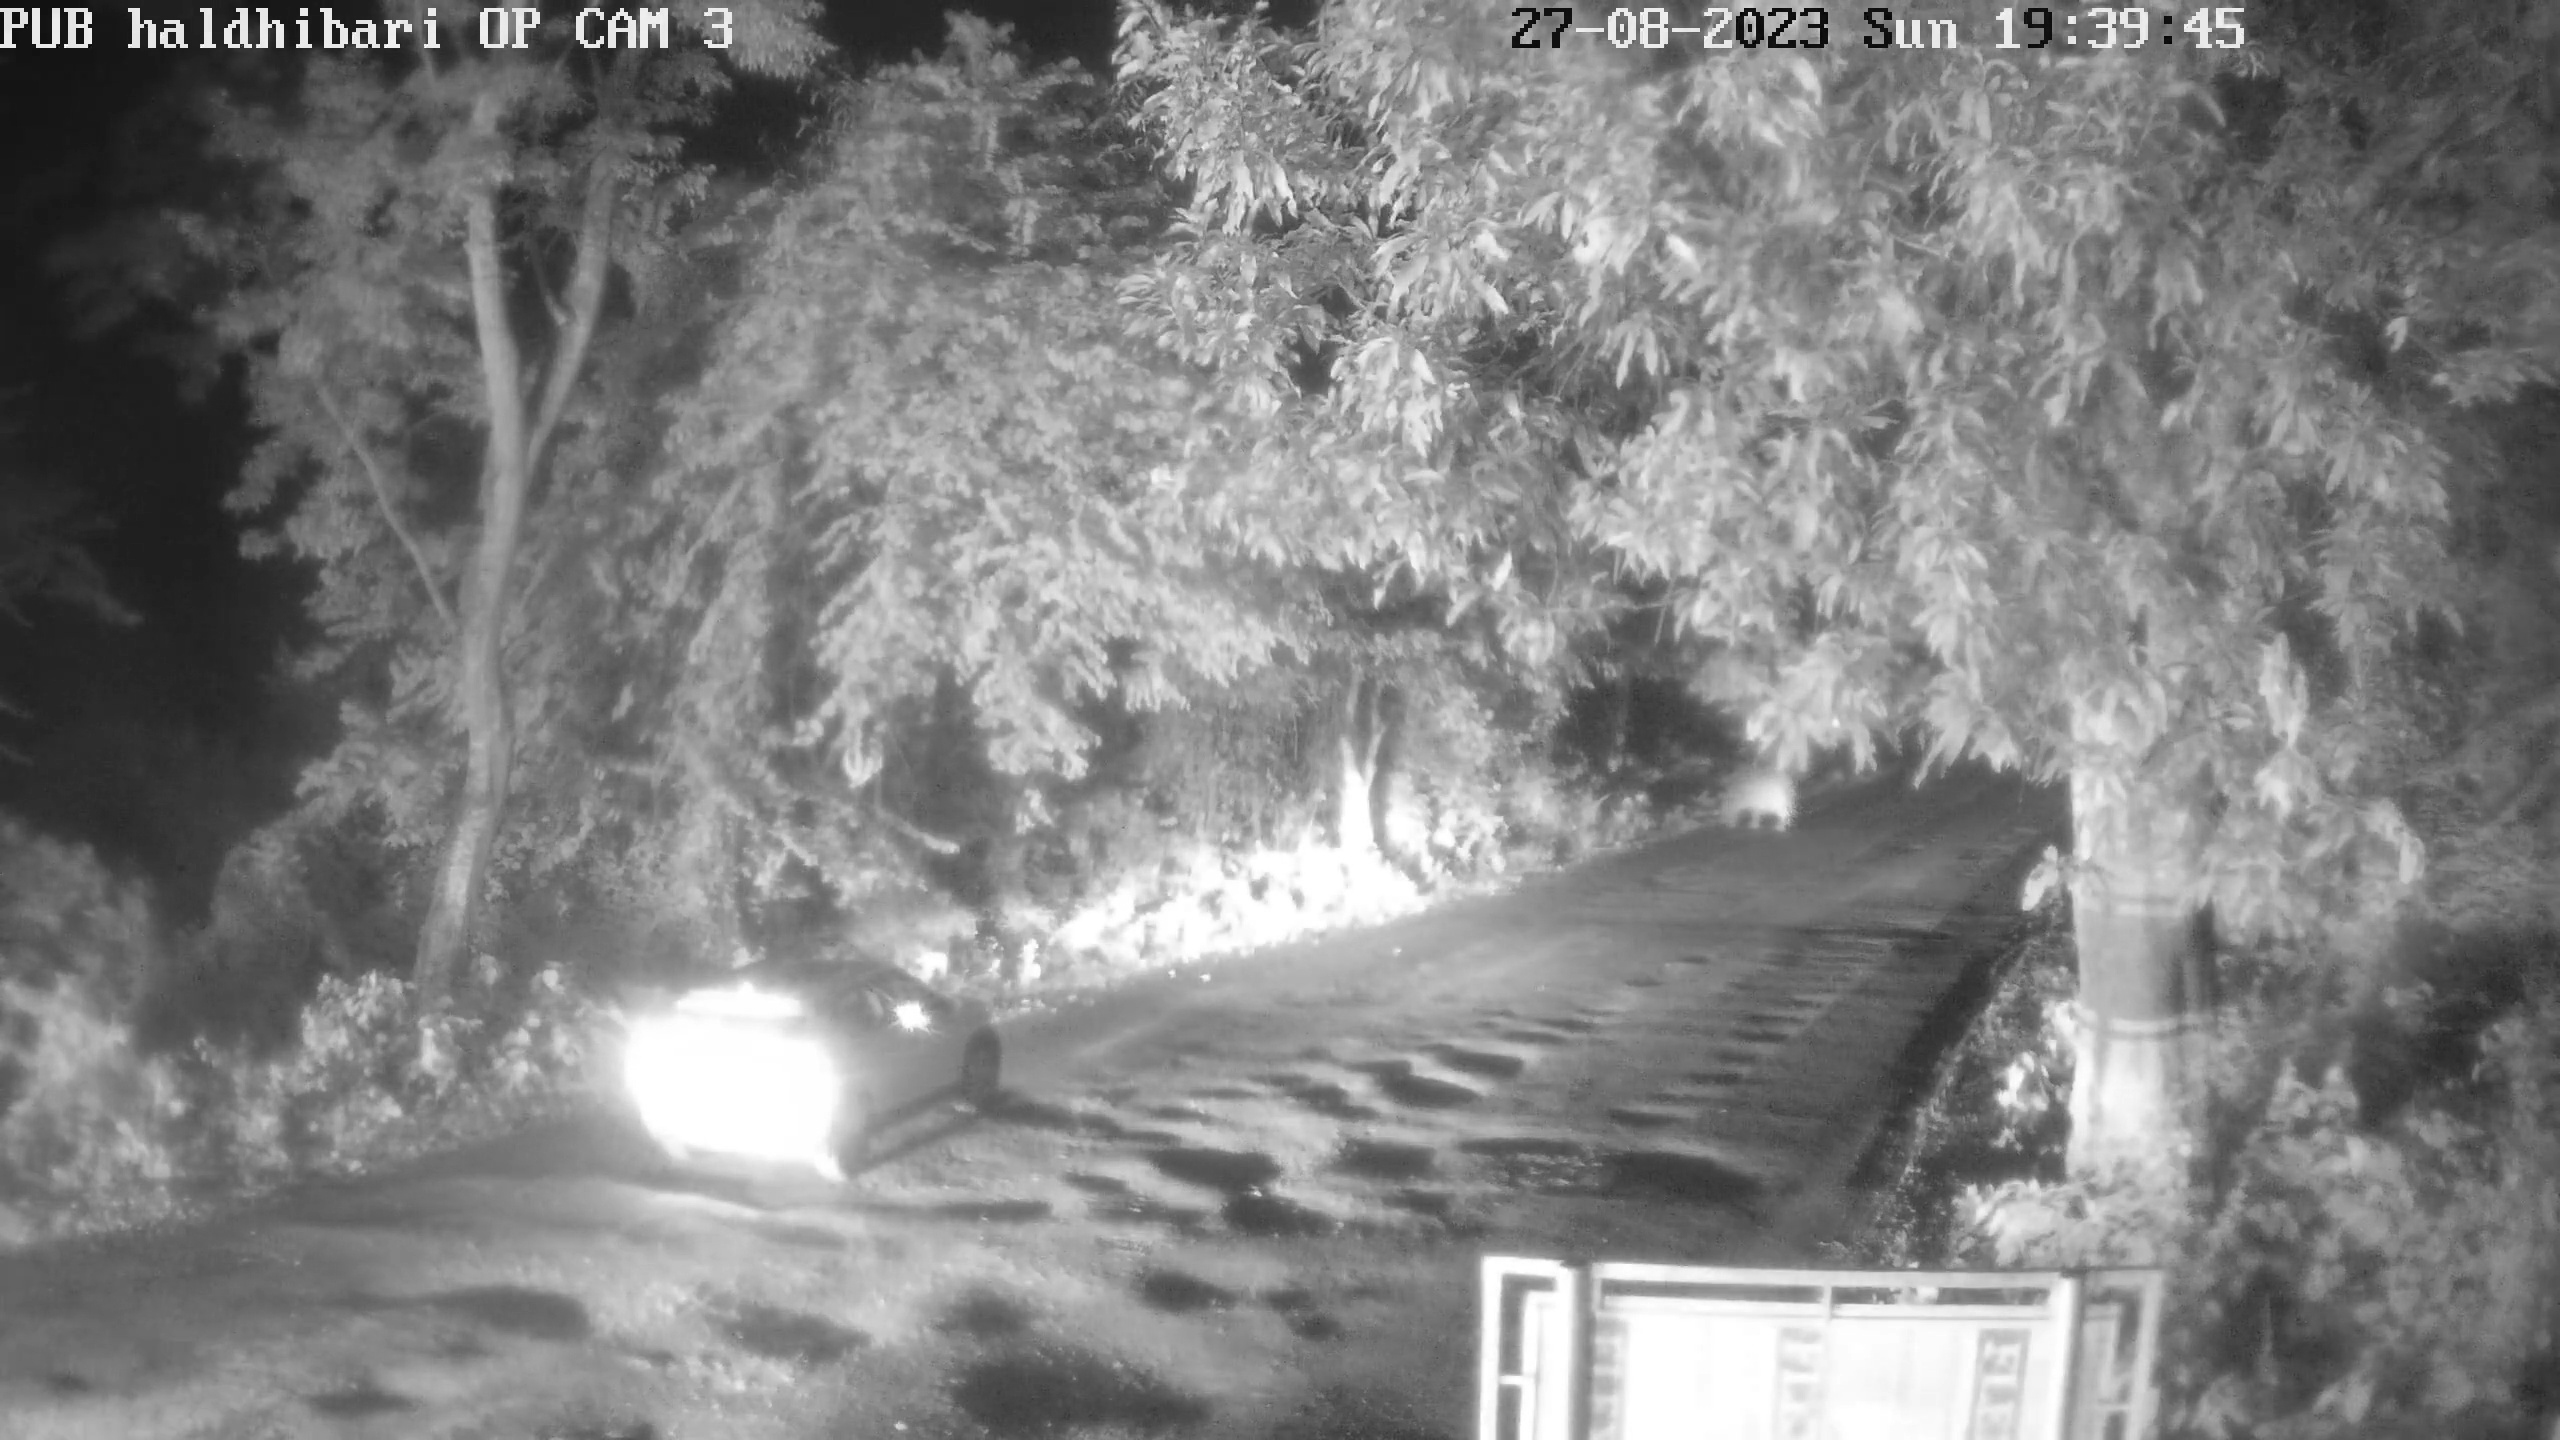rhinos: (1713, 761, 1793, 839)
